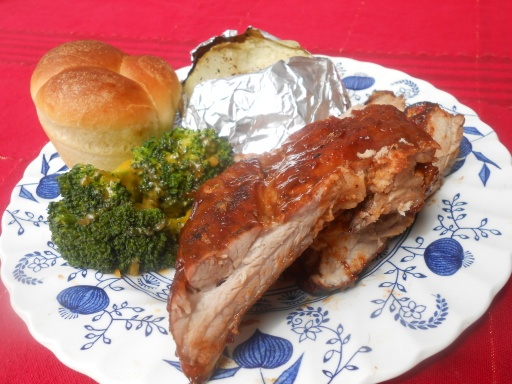background: (23, 15, 373, 230)
